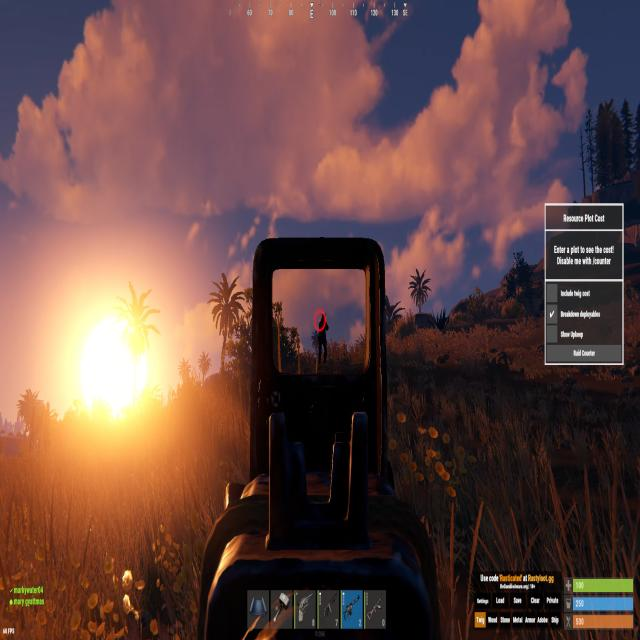Player: (317, 312, 329, 363)
